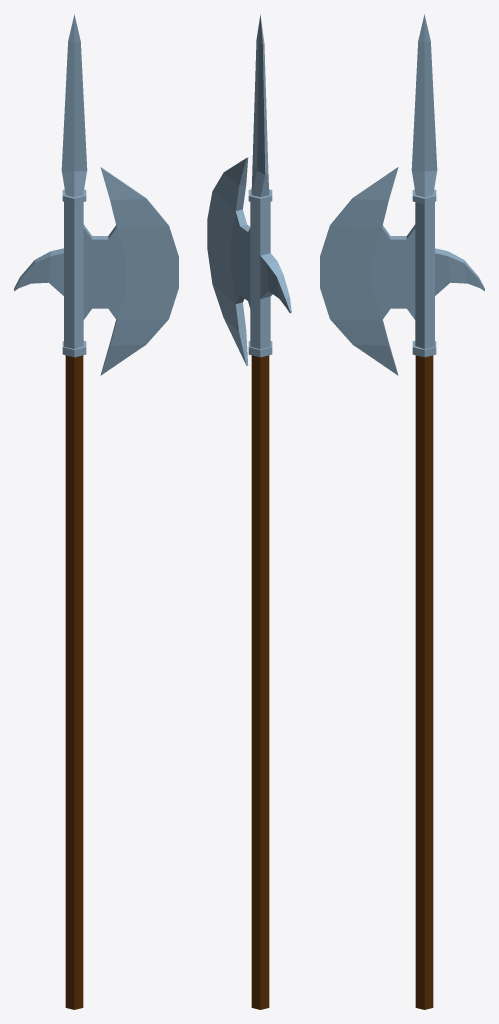
File: polearm-model 1.fbx
3 renders of one model, left to right at view 1: azimuth 90°, elevation 25°; view 2: azimuth 210°, elevation 25°; view 3: azimuth 270°, elevation 25°, orthographic.
Parts seen in each view (by area): view 1: Cylinder; view 2: Cylinder; view 3: Cylinder.
Part boxes in pixels (x1,y1,x2,y2): Cylinder: (14,14,178,1009); Cylinder: (207,14,291,1009); Cylinder: (320,14,484,1009).
Bounding box in the file's own units: 51.65 × 310 × 2055.
